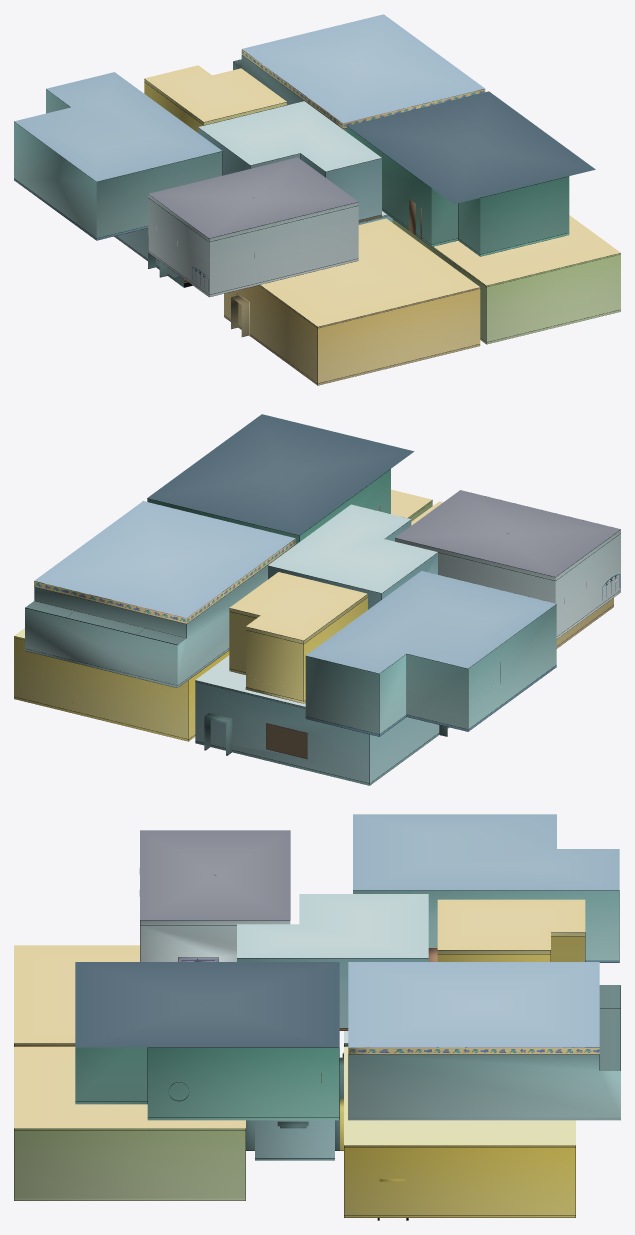
The model's file is Griffin House.fbx.
The picture shows the model from 3 angles, top to bottom: view 1: azimuth 30°, elevation 25°; view 2: azimuth 150°, elevation 25°; view 3: azimuth 270°, elevation 25°; orthographic projection. The views are drawn at different scales.
Visible parts, largest first — view 1: Z1_floor_geo, Z1_ceiling_geo, Z1_ceiling, Z1_stewiesBanner_geo; view 2: Z1_ceiling_geo, Z1_floor_geo, Z1_ceiling, Z1_stewiesBanner_geo, Z1_props_geo; view 3: Z1_ceiling_geo, Z1_floor_geo, Z1_ceiling, Z1_stewiesBanner_geo.
Part boxes in pixels (box(x1,y1,x2,y2)): Z1_floor_geo: box(14, 55, 620, 385); Z1_ceiling_geo: box(14, 14, 595, 238); Z1_ceiling: box(260, 211, 620, 326); Z1_stewiesBanner_geo: box(241, 49, 485, 128); Z1_ceiling_geo: box(34, 414, 620, 673); Z1_floor_geo: box(14, 469, 620, 785); Z1_ceiling: box(14, 489, 442, 706); Z1_stewiesBanner_geo: box(34, 539, 295, 623); Z1_props_geo: box(36, 506, 620, 759); Z1_ceiling_geo: box(75, 814, 619, 1047); Z1_floor_geo: box(14, 890, 620, 1220); Z1_ceiling: box(14, 945, 575, 1145); Z1_stewiesBanner_geo: box(348, 1048, 599, 1054).
Size of the model in its own units: 10224 by 2890 by 10361.
Materials: 21 (21 with a texture image).
